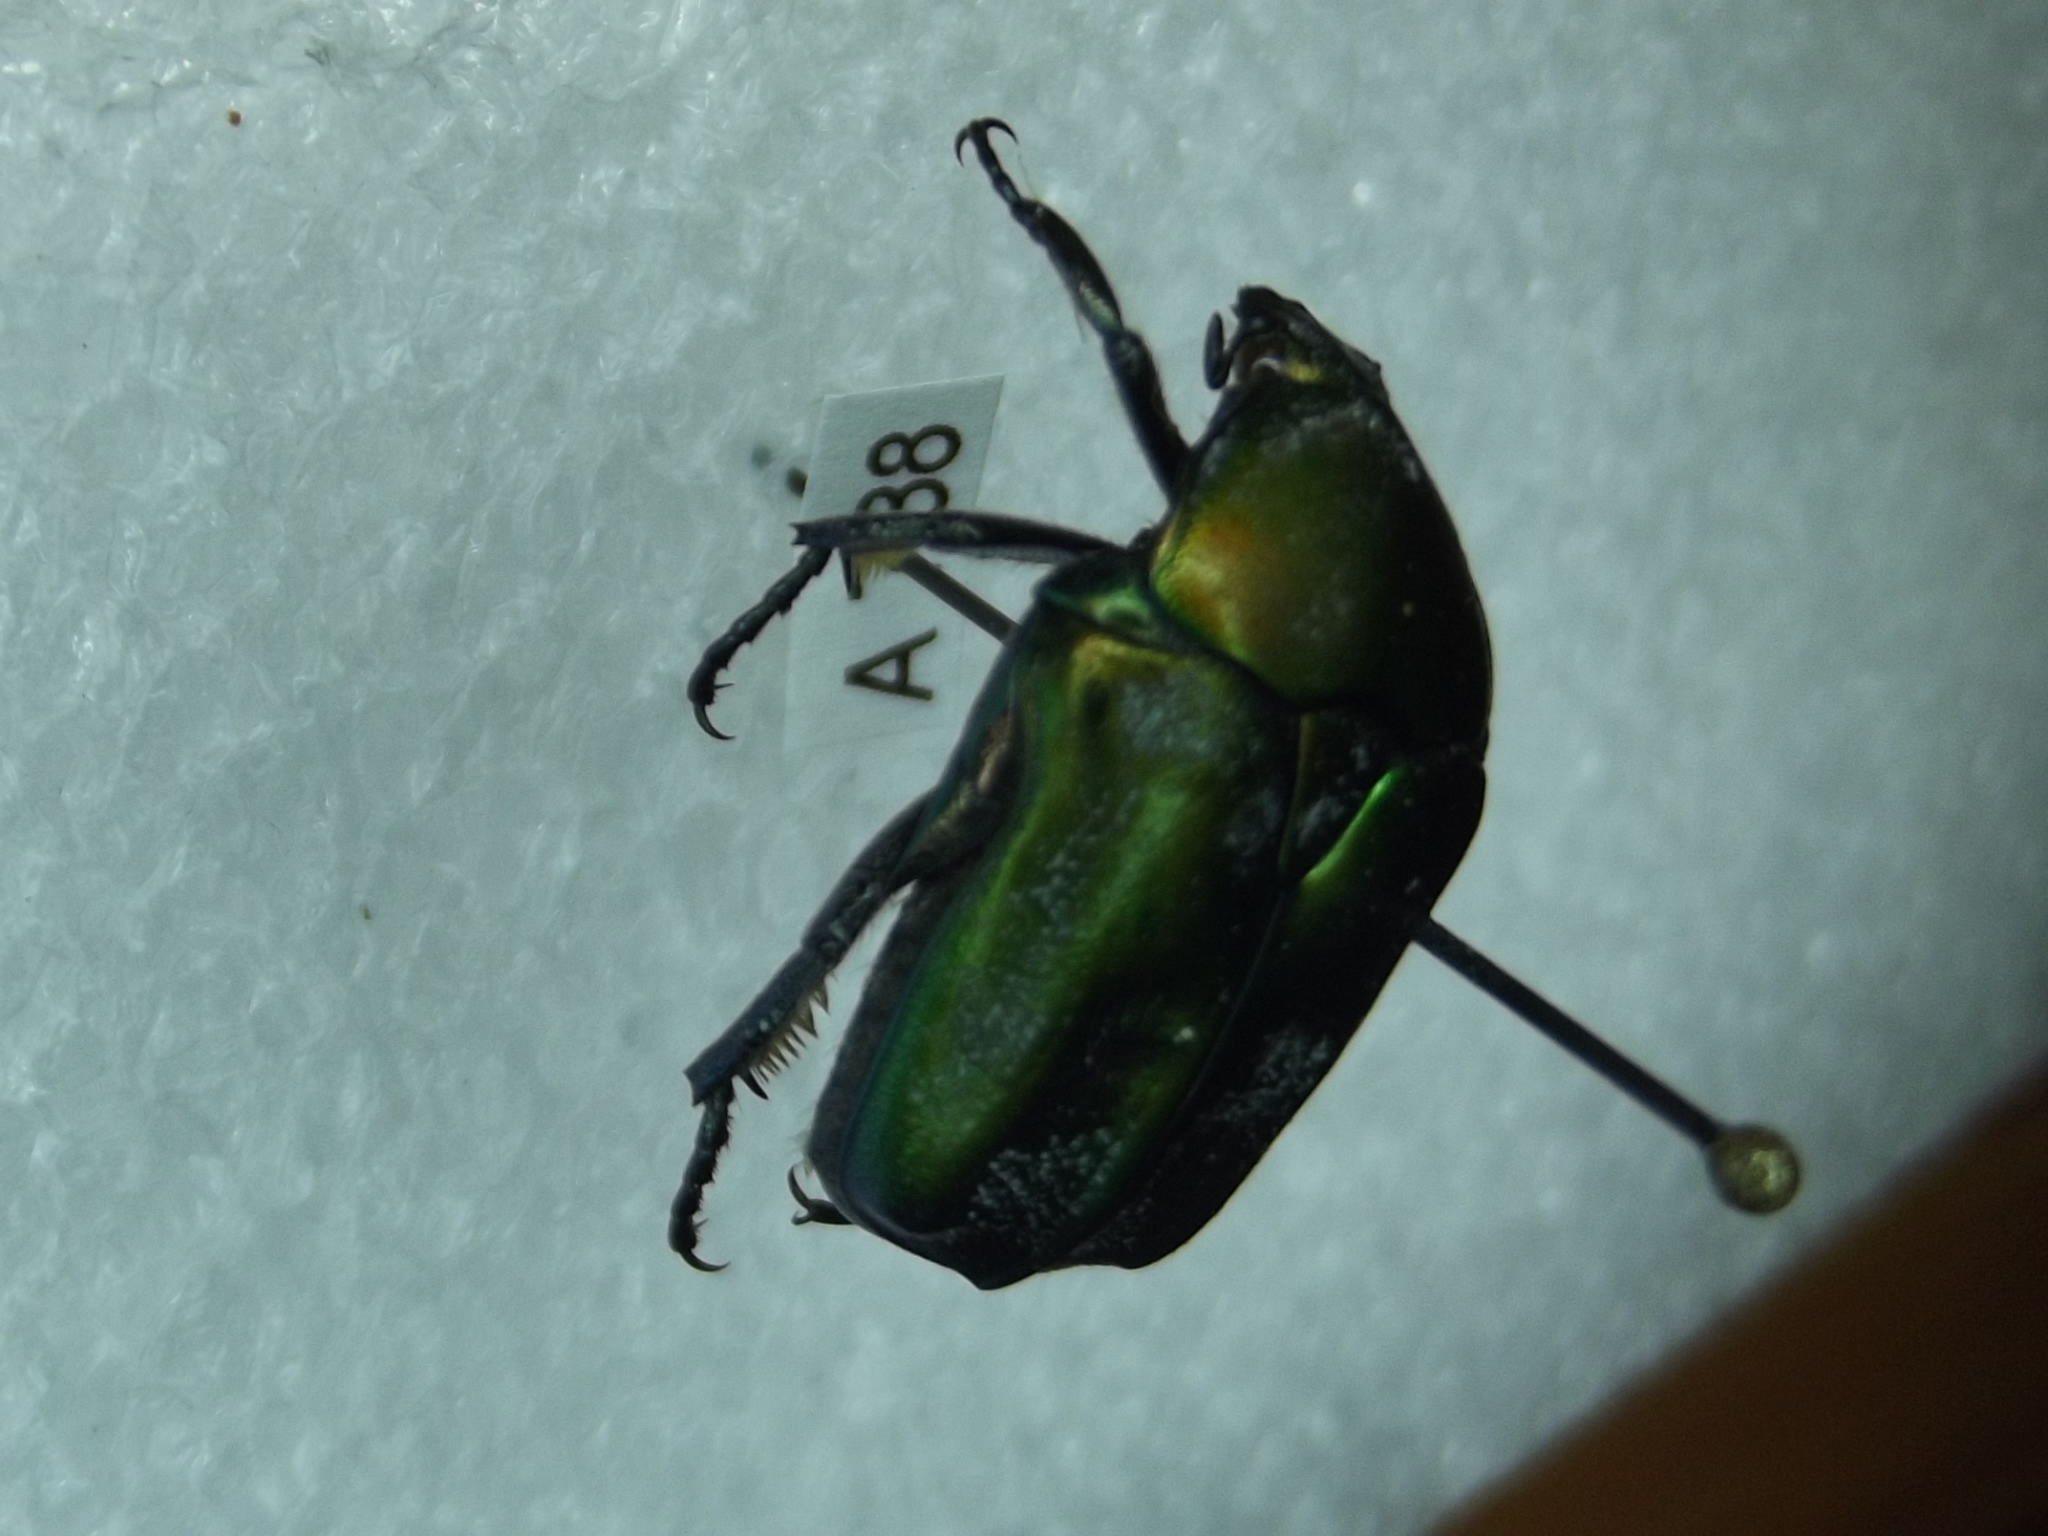Protaetia_cuprea_ignicollis: (635, 110, 1509, 1312)
